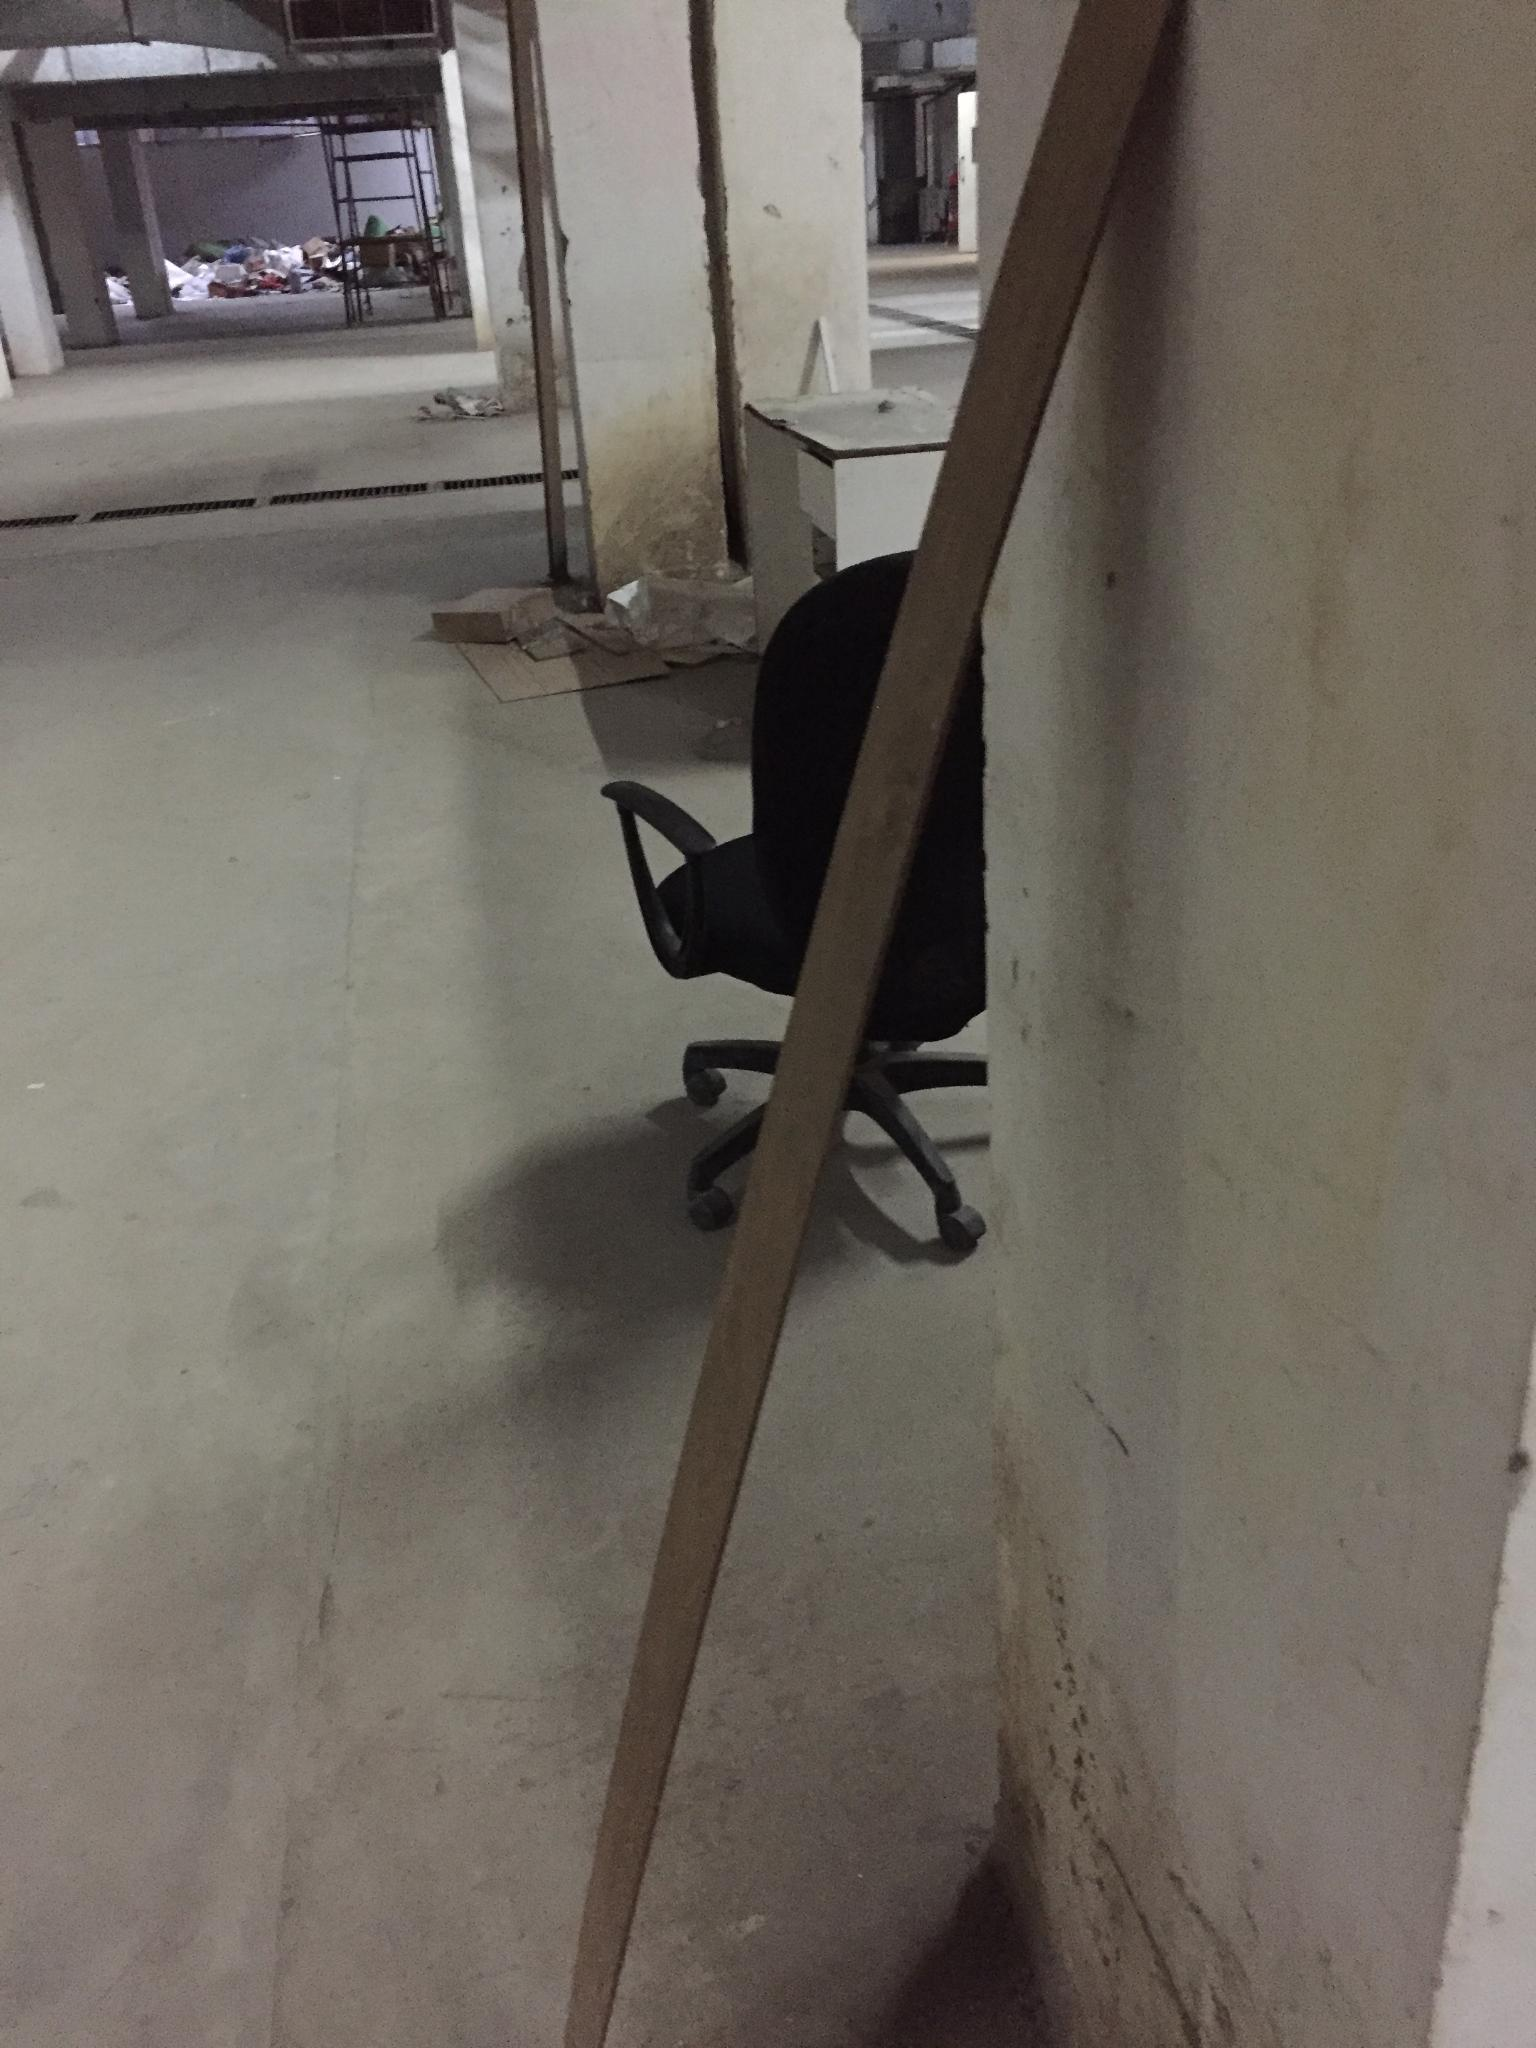chair: (600, 547, 991, 1251)
